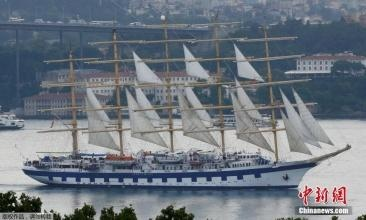fanchuan: (20, 32, 354, 188)
